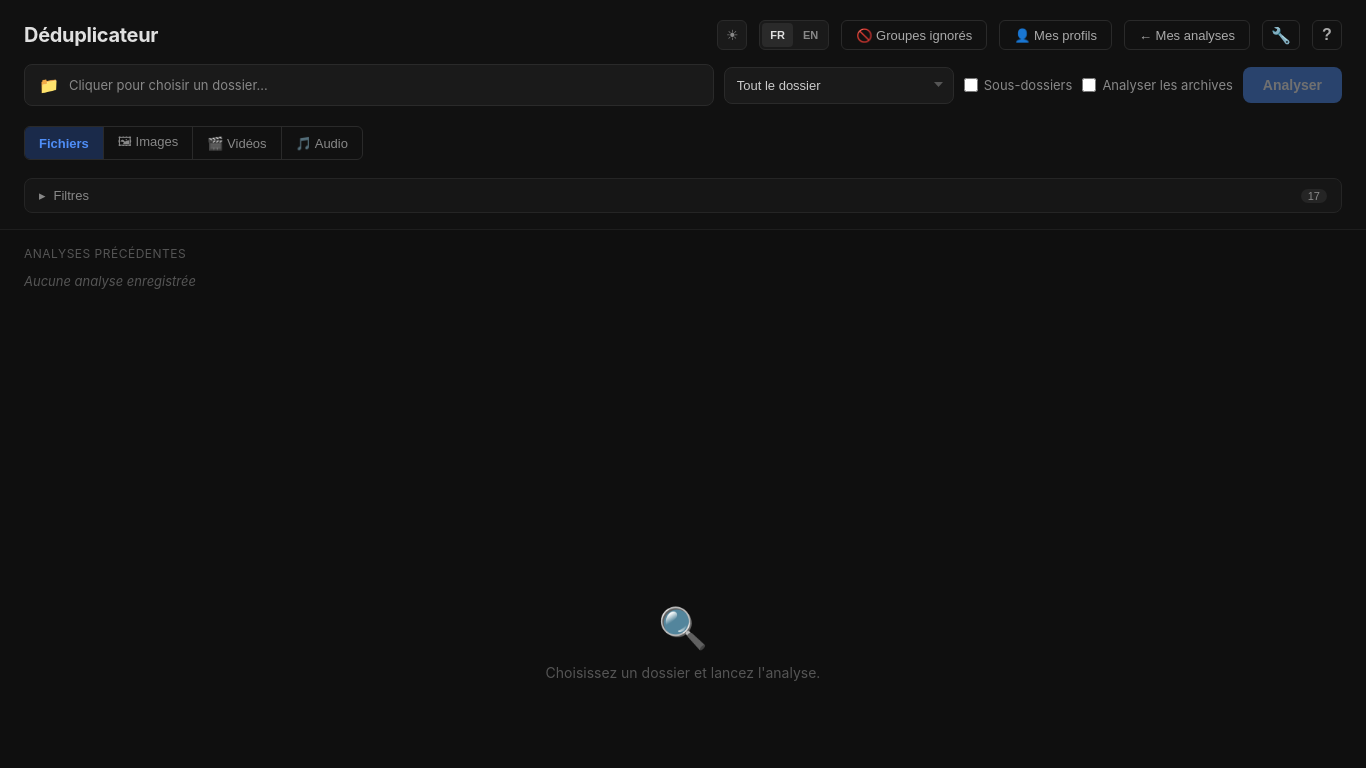
Test case: S - Scénarios complets (3 modes × 4 types × 2 résultats = 24) › compare_folder / images / false
Step 1. Click the text "Cliquer pour choisir un dossier…" → (168, 85), box [69,77,268,93]
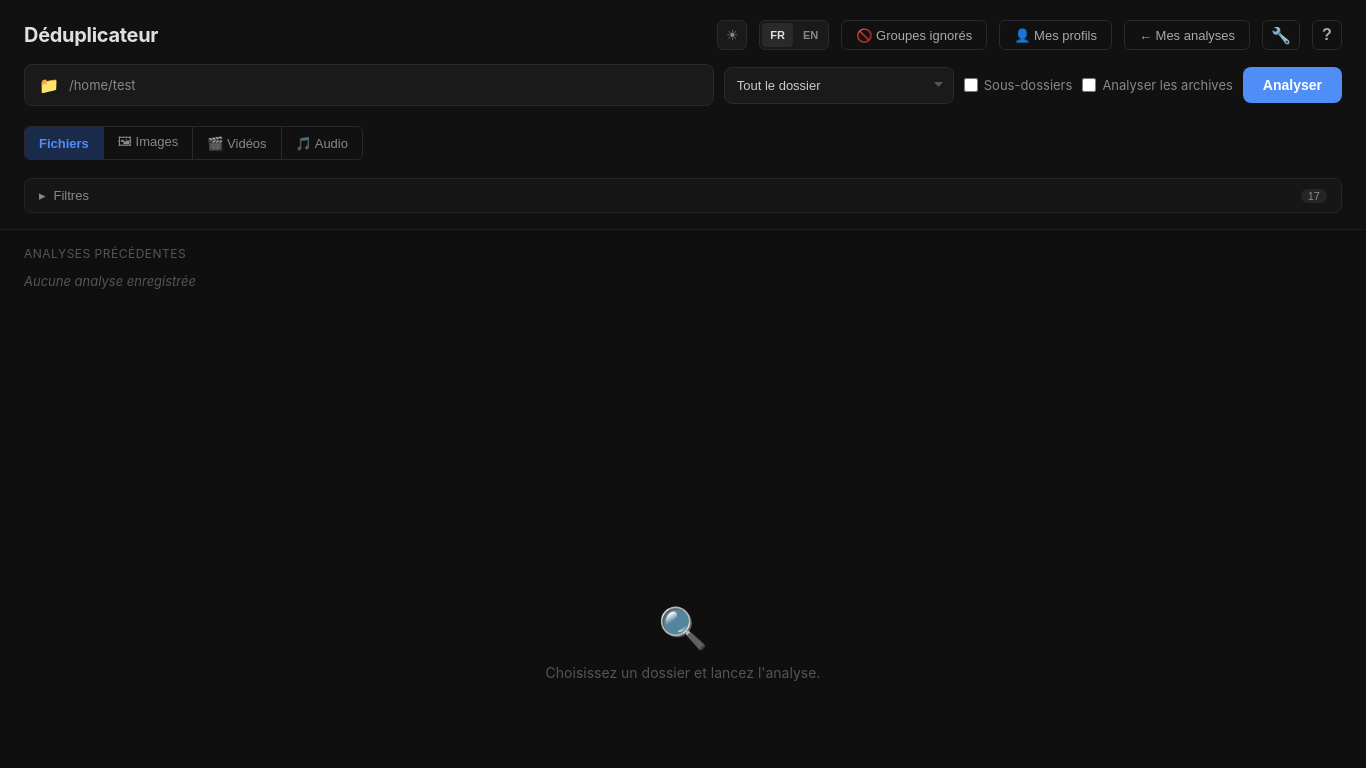
Expected: the text "/home/test" is shown, [69,77,136,93]
Step 2. Select "Comparer avec un autre dossier" in the dropdown → (839, 85), box [724,66,954,104]
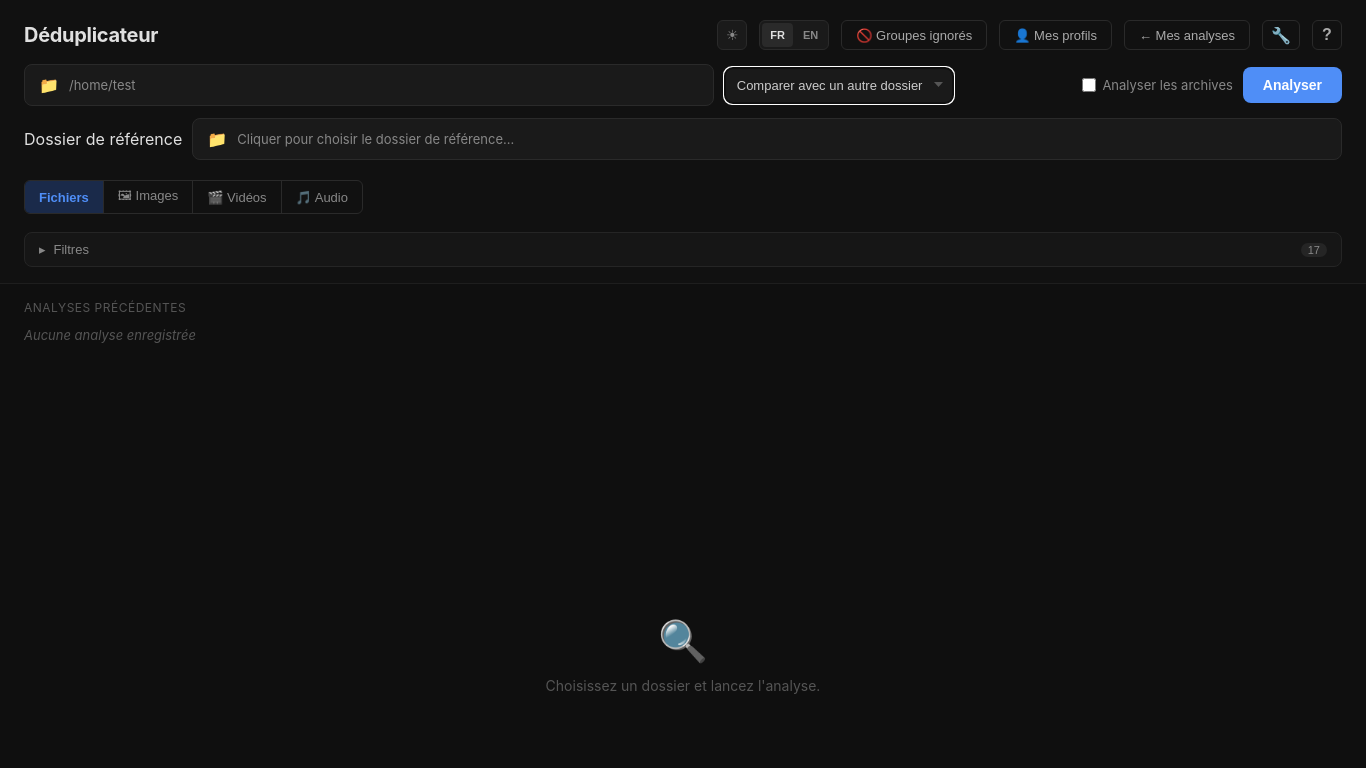
Step 3. Click the element with test id "secondary-folder-input" → (767, 139), box [192,118,1342,160]
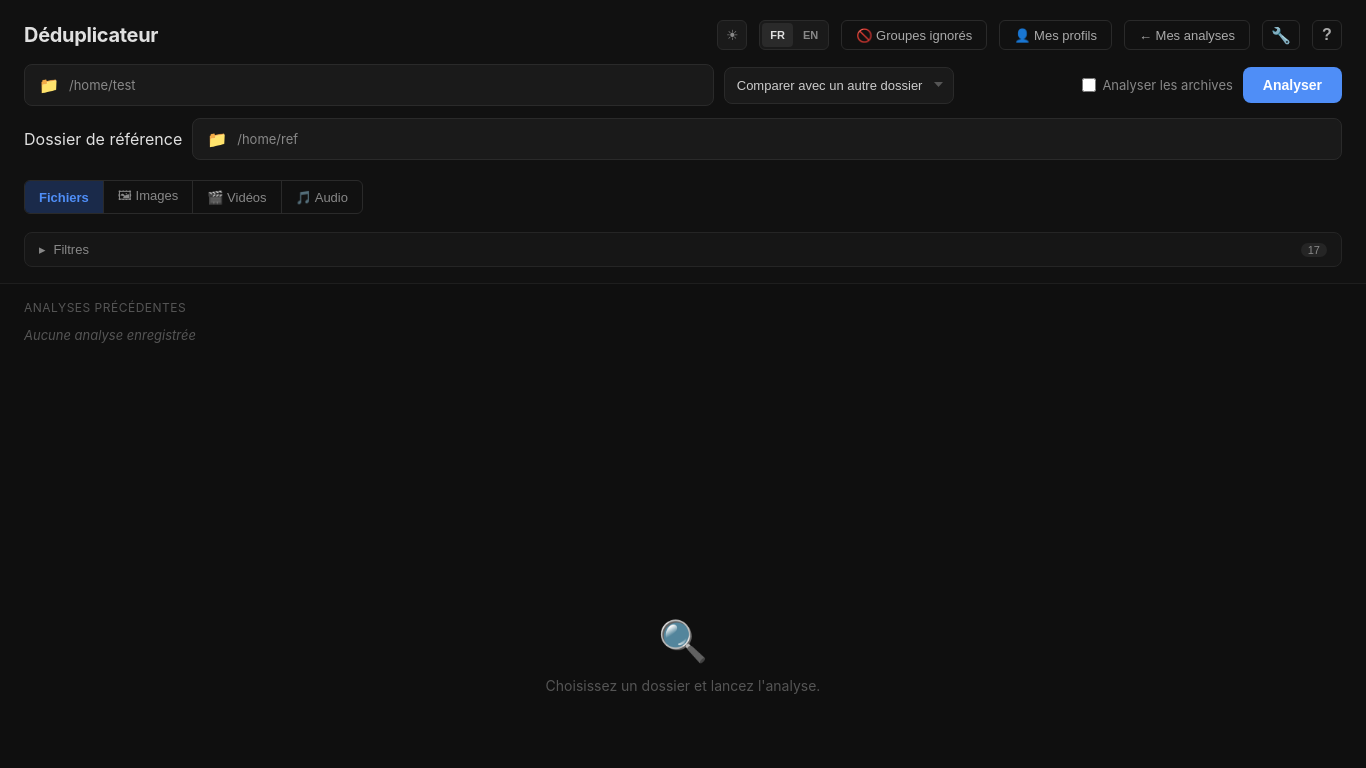
Expected: the text "/home/ref" is shown, [237,131,298,147]
Step 4. Click the button "🖼 Images" → (149, 197), box [104,181,193,213]
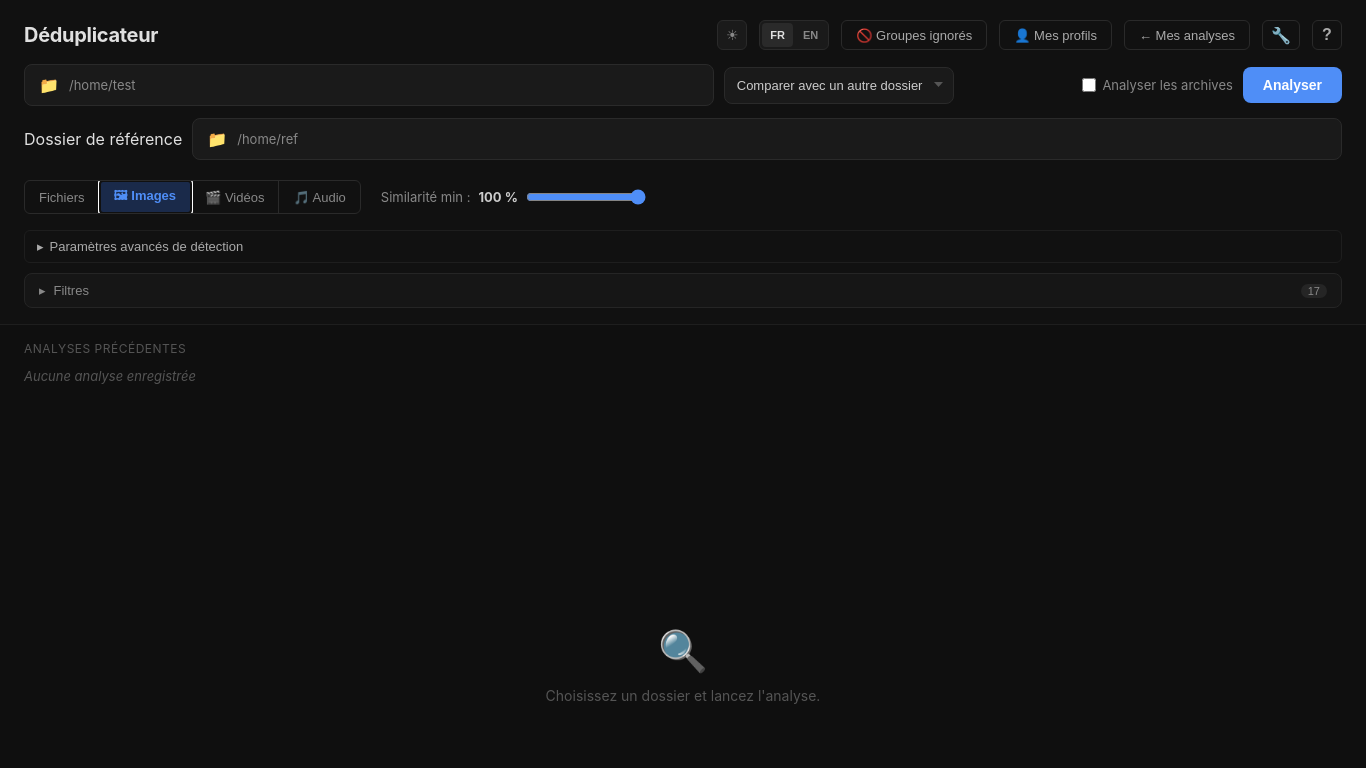
Step 5. Click the button "Analyser" → (1292, 85), box [1243,67,1342,103]
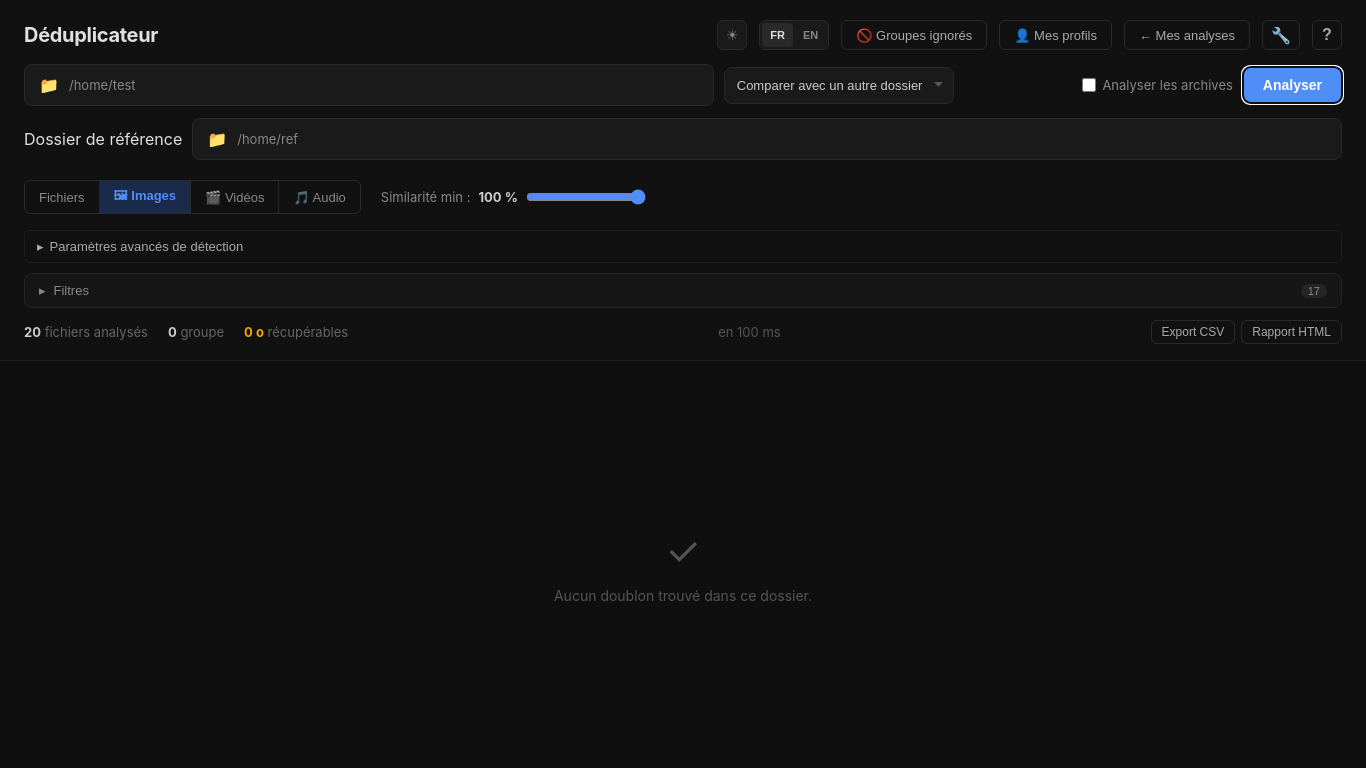
Expected: the element with test id "stats-row" is shown, [24,320,1342,344]
Expected: the text "Aucun doublon trouvé dans ce dossier." is shown, [554,586,812,604]
